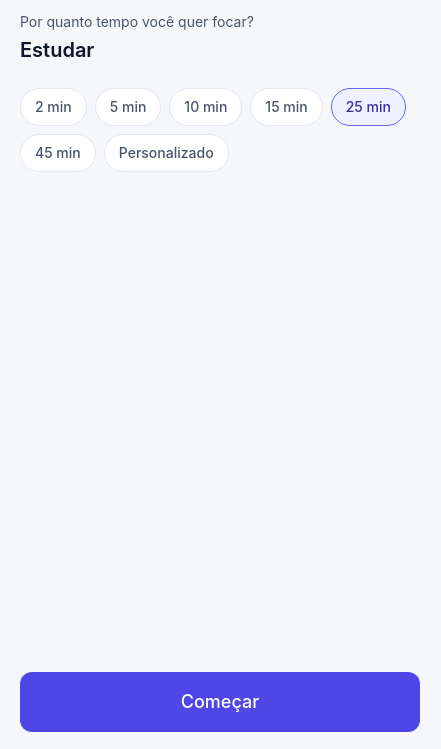
Test: DurationPicker › disables the start button until a valid custom duration is entered
Click the button "Personalizado".
click(166, 153)  # box 104,134 -> 229,172
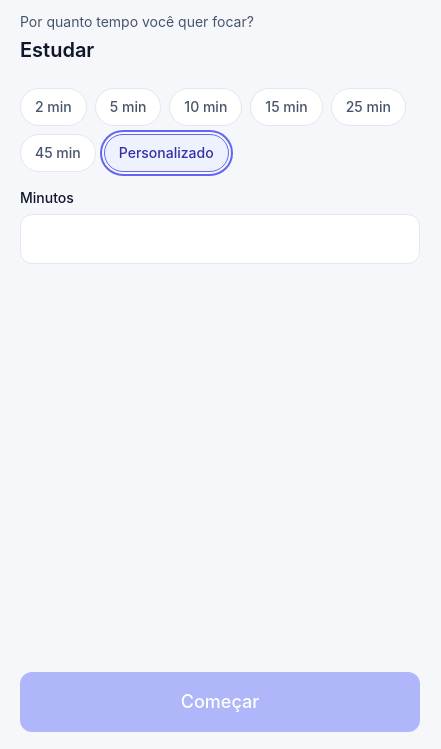
Now the button "Começar" is disabled, box 20,672 -> 420,732
Type "12" into the number field labelled "Minutos".
click(220, 239); type("12")  # box 20,214 -> 420,264
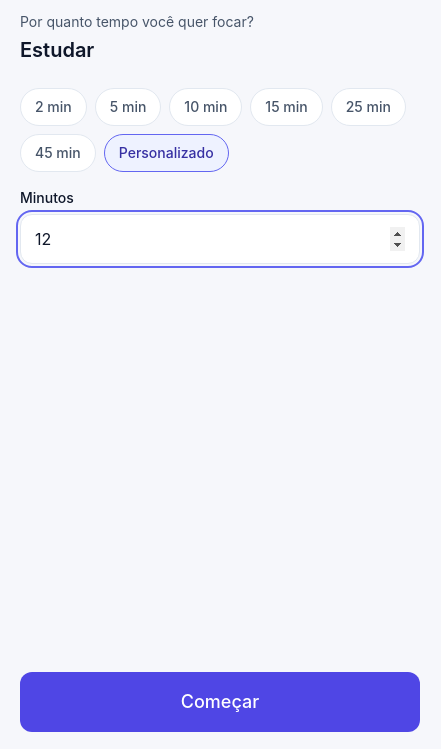
Now the button "Começar" is enabled, box 20,672 -> 420,732
